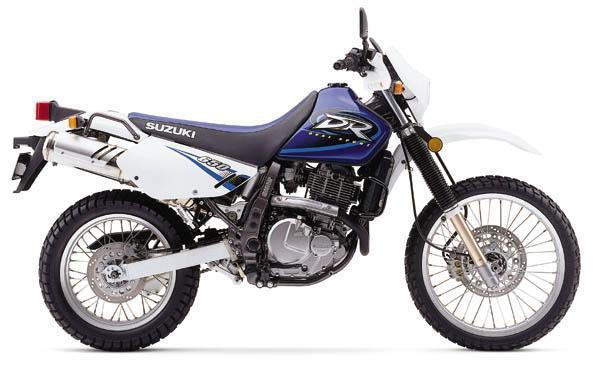Motorcycle: (0, 4, 587, 363)
